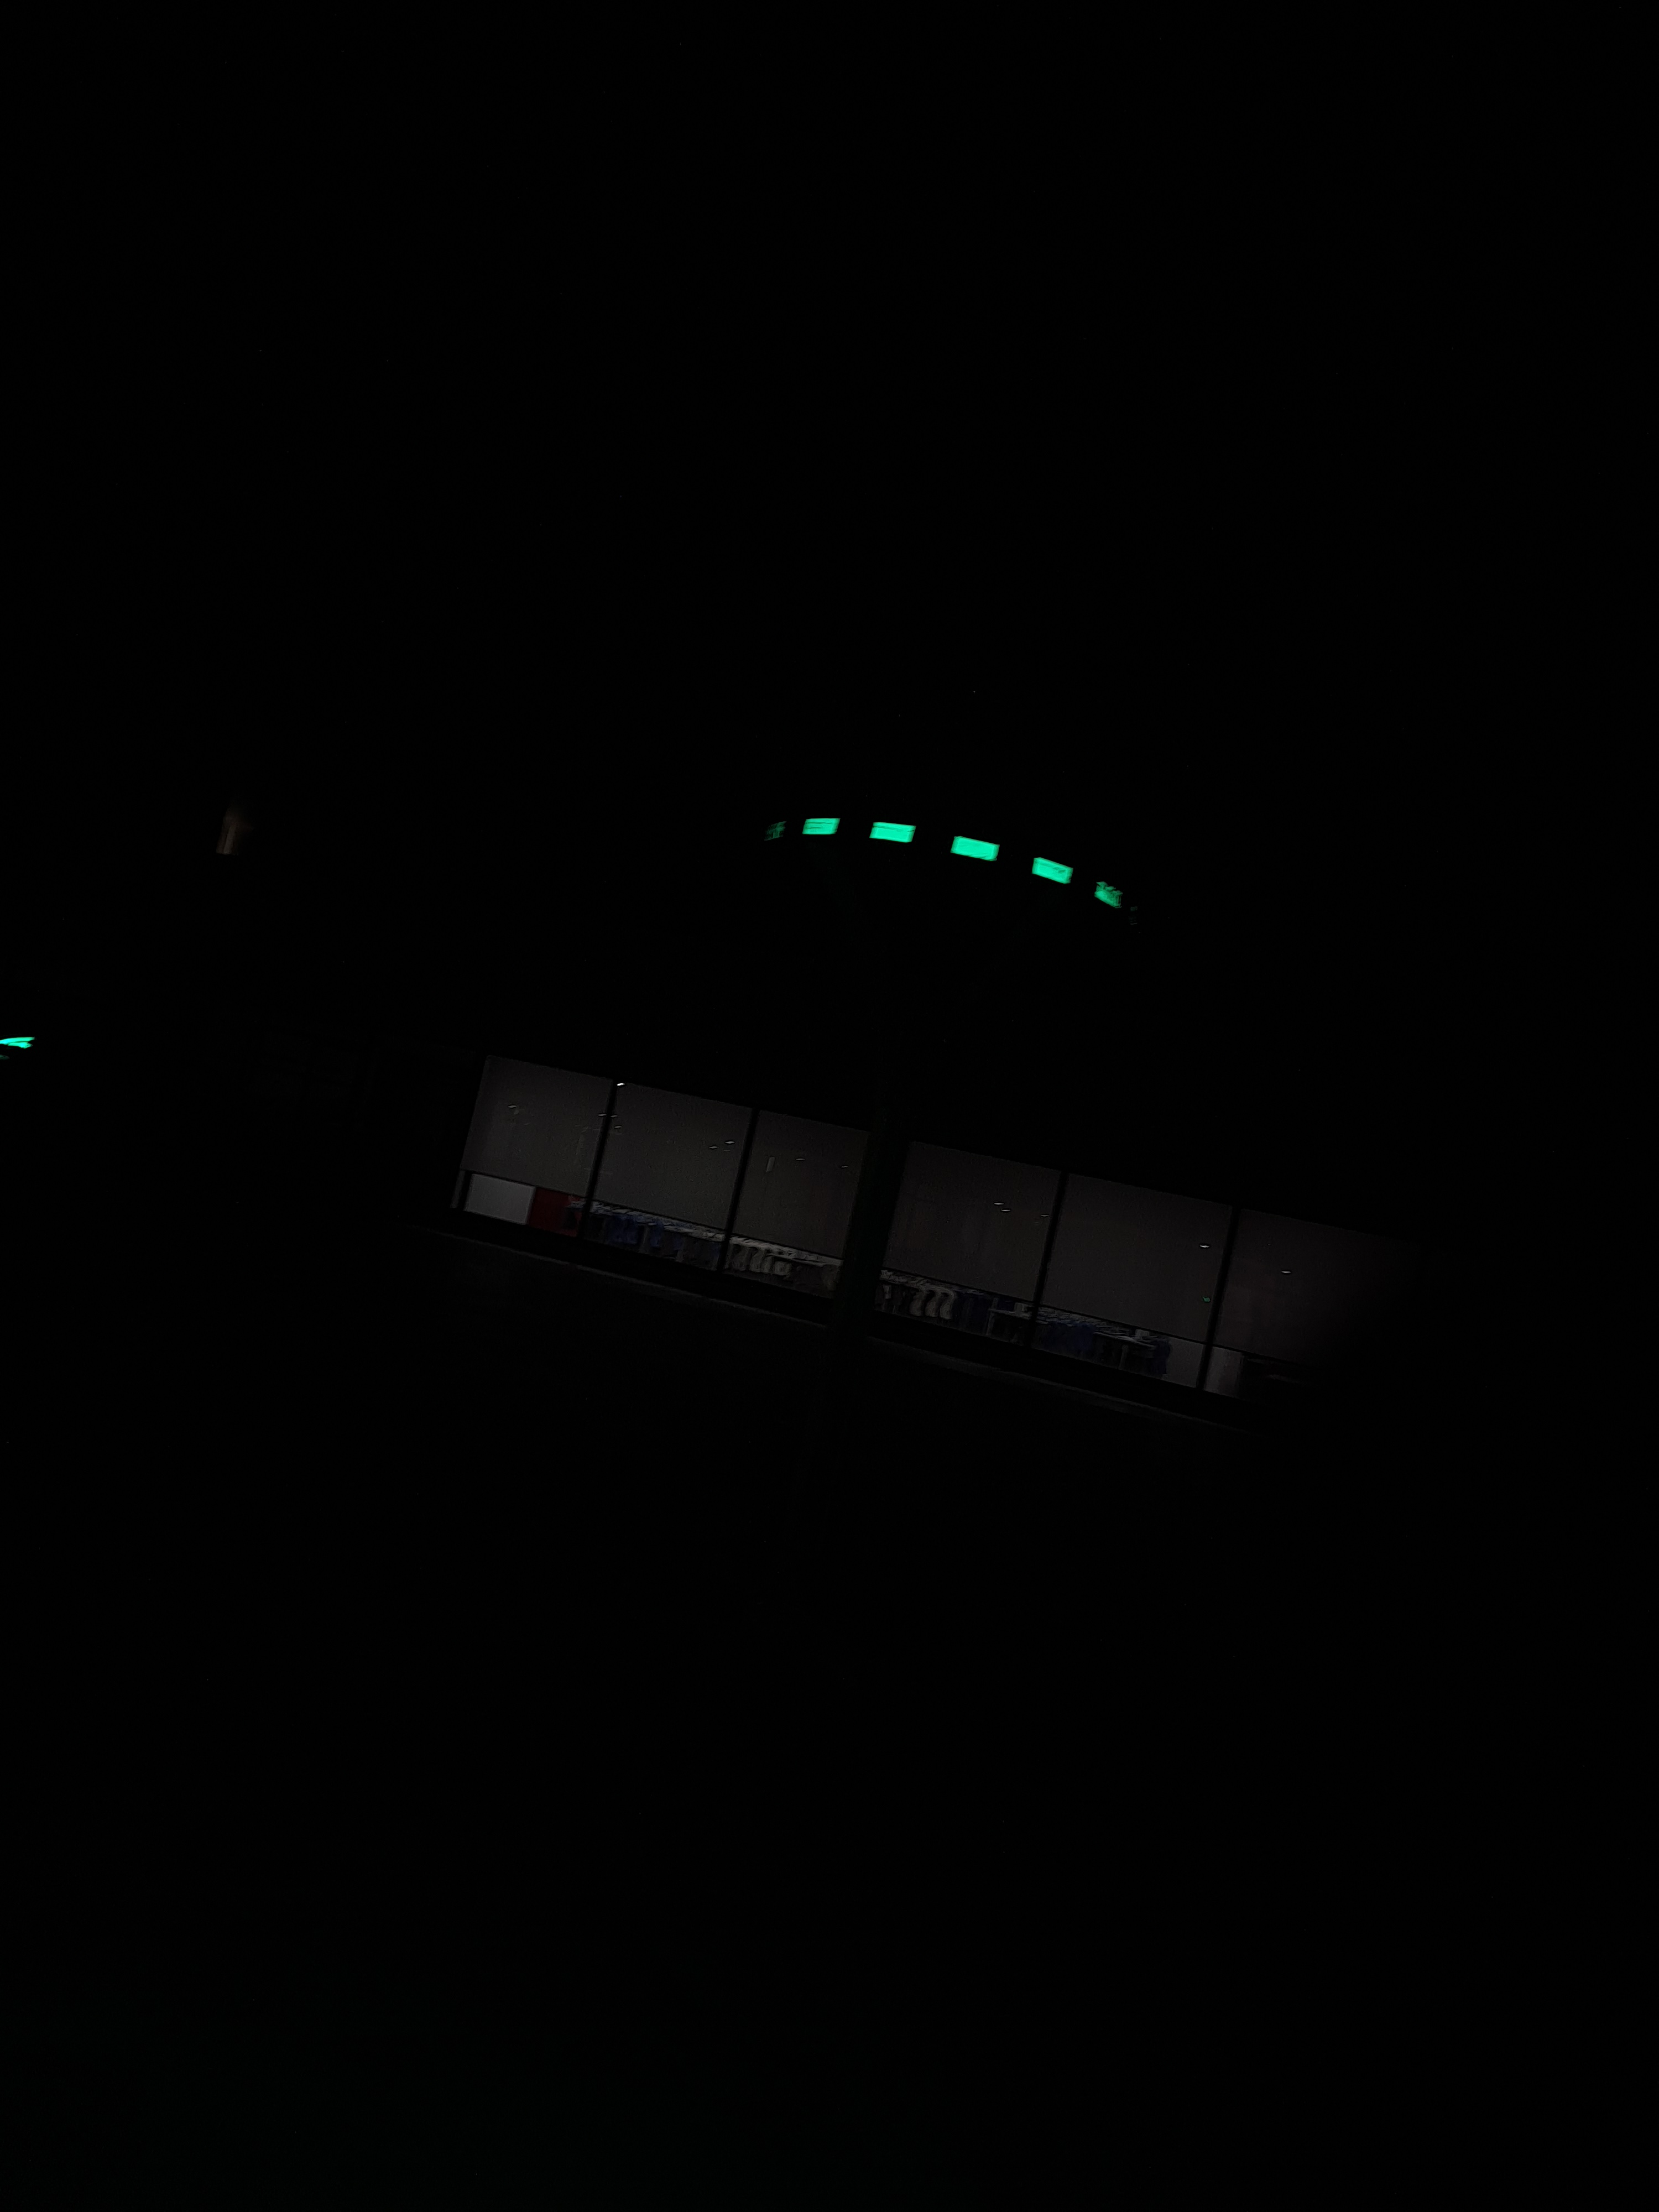hoop: (798, 805, 1126, 911)
